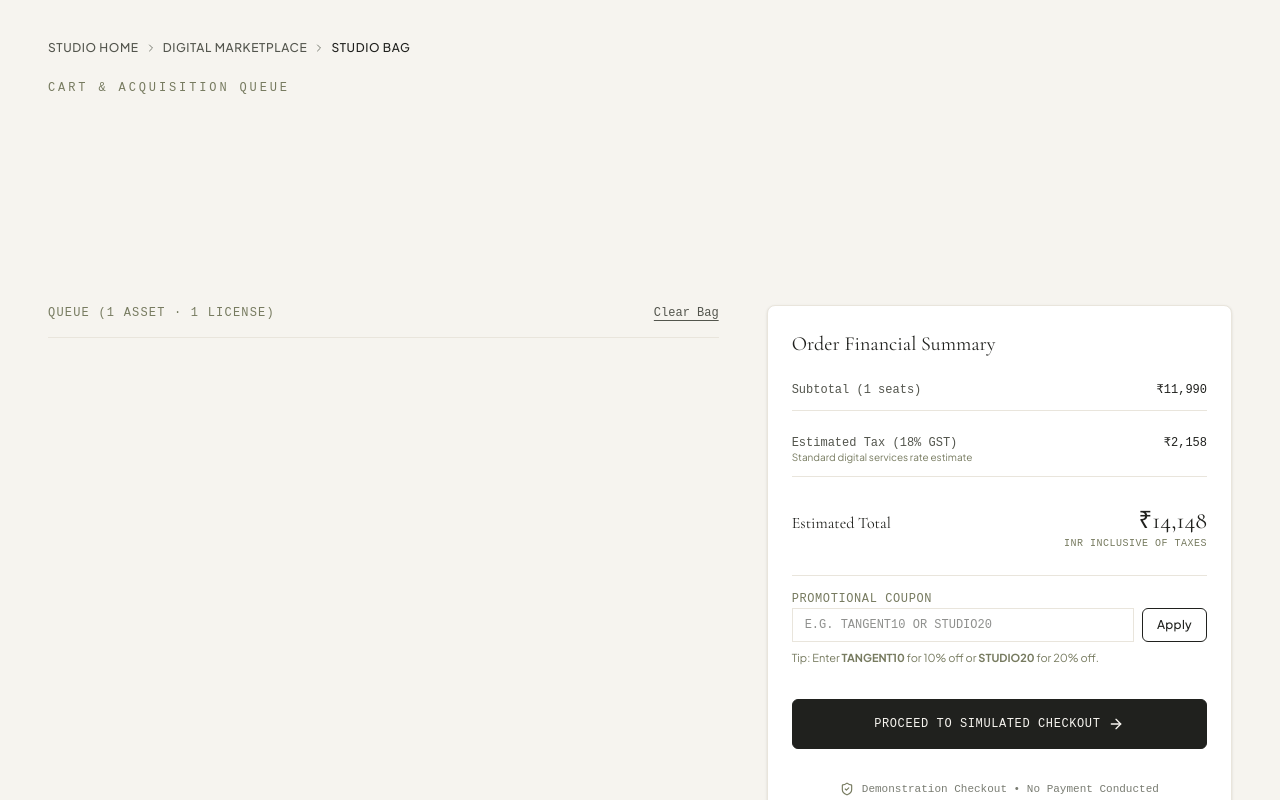
Test case: PHASE 05 — Cart & Checkout UI Integration › /cart Page › applies promotional discount code in the cart view
This screenshot has width=1280, height=800.
In the field with placeholder "e.g. TANGENT10 or STUDIO20": (963,625) 792,608 -> 1134,642, type "TANGENT10"
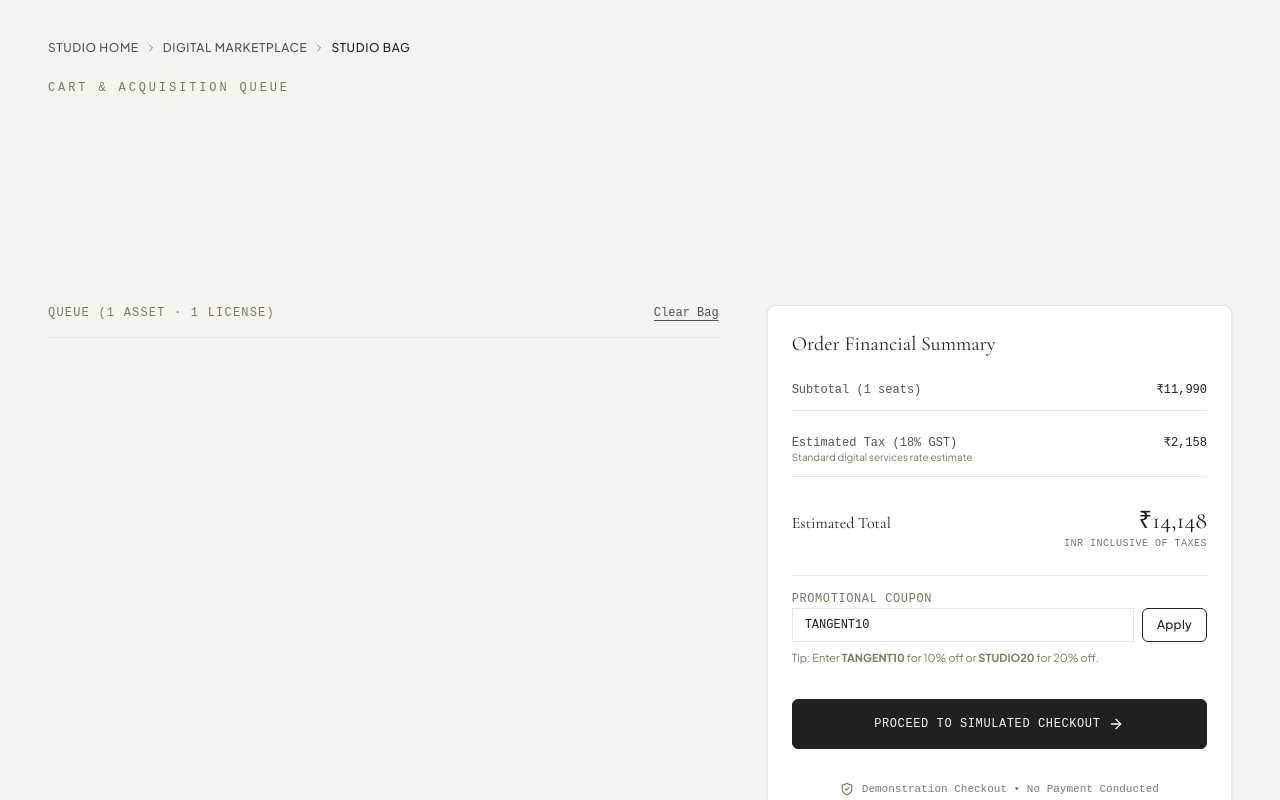
Click the button "Apply": (1174,625) 1142,608 -> 1207,642
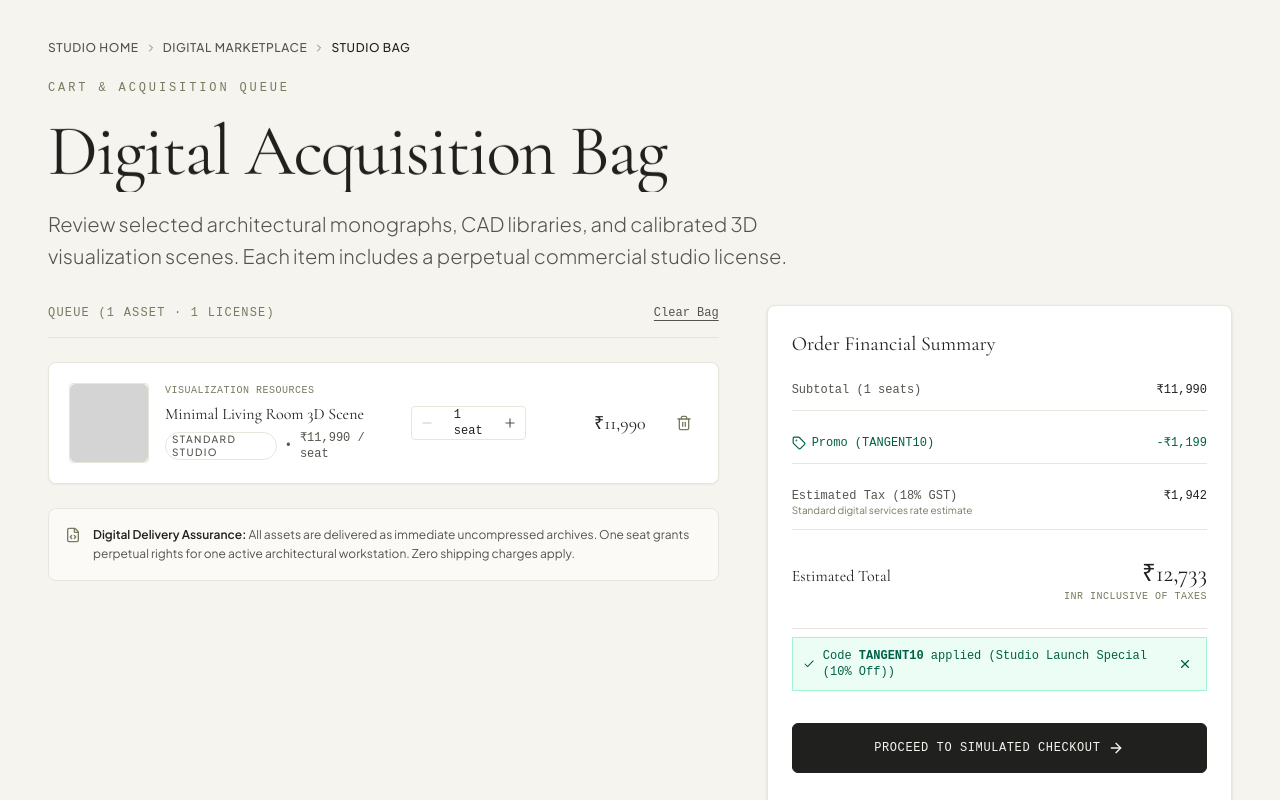
expect the element with test id "applied-promo" shows "Code TANGENT10 applied": met, box 792,637 -> 1207,691
expect the text "-₹1,199" is shown: met, box 1157,435 -> 1207,451
